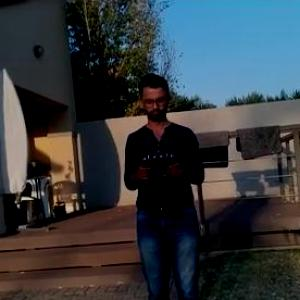follow: (109, 73, 202, 299)
